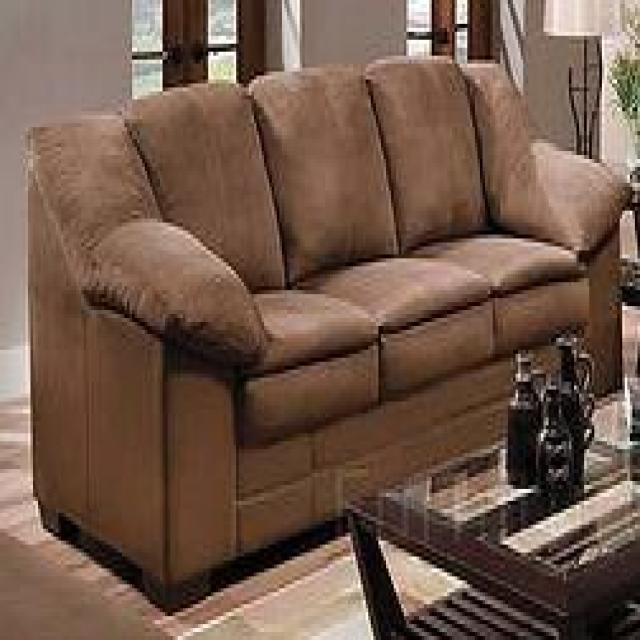sofa: (20, 55, 632, 613)
